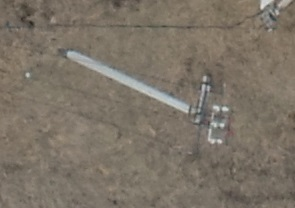opora: (65, 47, 232, 147)
